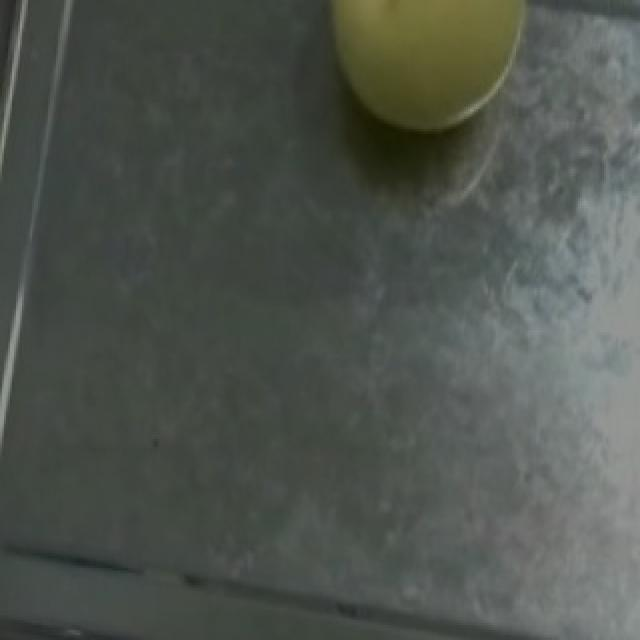Fruit: (296, 0, 552, 154)
